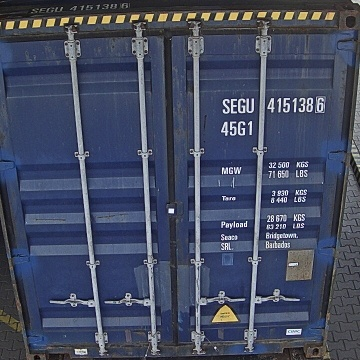serial_id: (222, 96, 325, 113)
